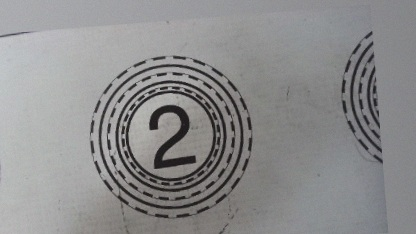2r: (81, 49, 261, 224)
